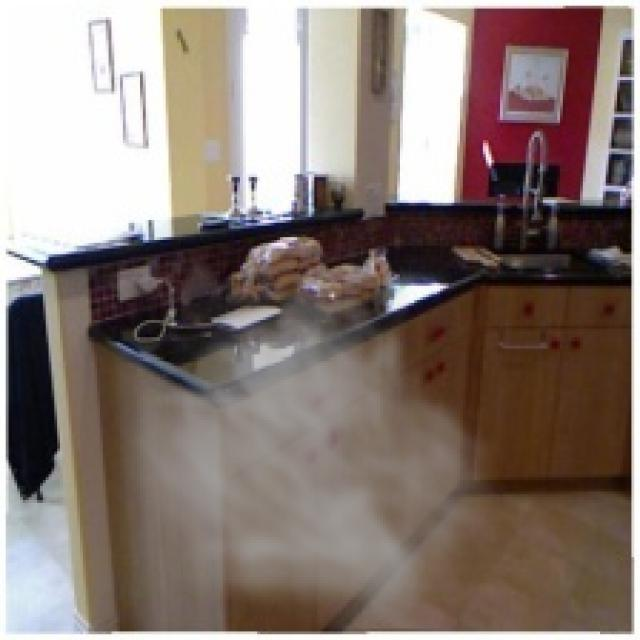Smoke: (114, 248, 509, 628)
